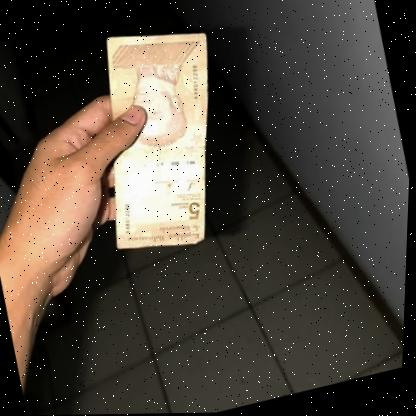five-front-vef: (72, 16, 253, 263)
